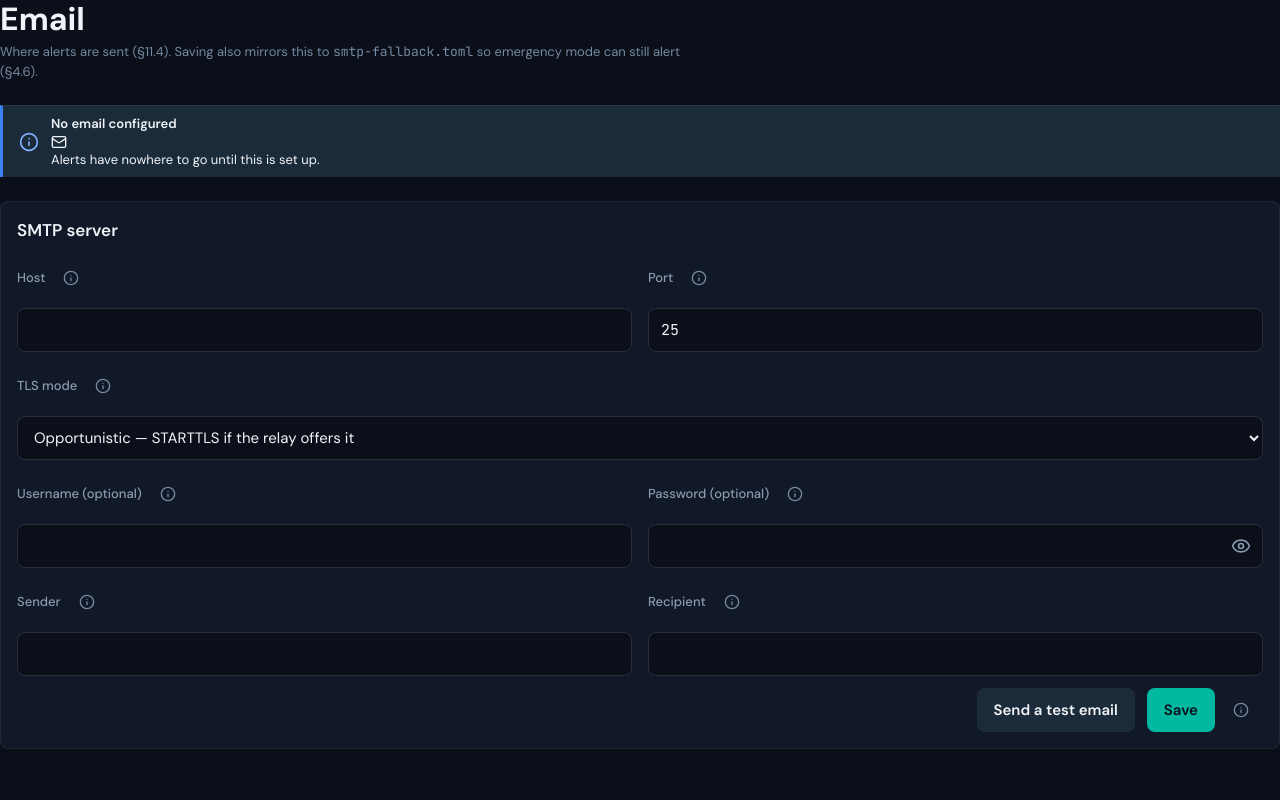
Test: EmailScreen — validation (defaults suit an unauthenticated relay on 25, Q22) › reports missing host, port, sender and recipient on Save without submitting
Expected: the number field showing "25" is shown, [648,308,1263,352]
Click the button "Save" at (1181, 710), box [1147,688,1215,732]
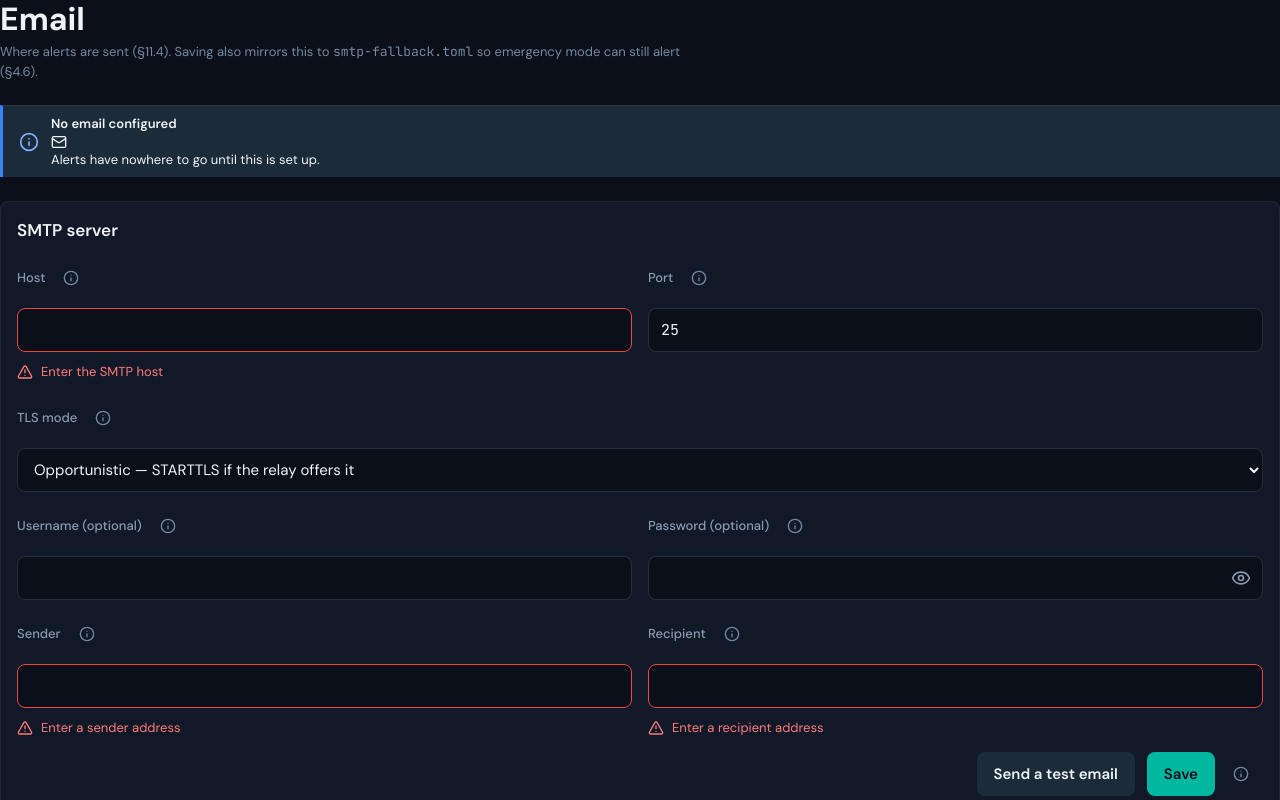
Expected: the text "Enter the SMTP host" is shown, [41,362,163,382]
Expected: the text "Enter a sender address" is shown, [41,718,180,738]
Expected: the text "Enter a recipient address" is shown, [672,718,823,738]
